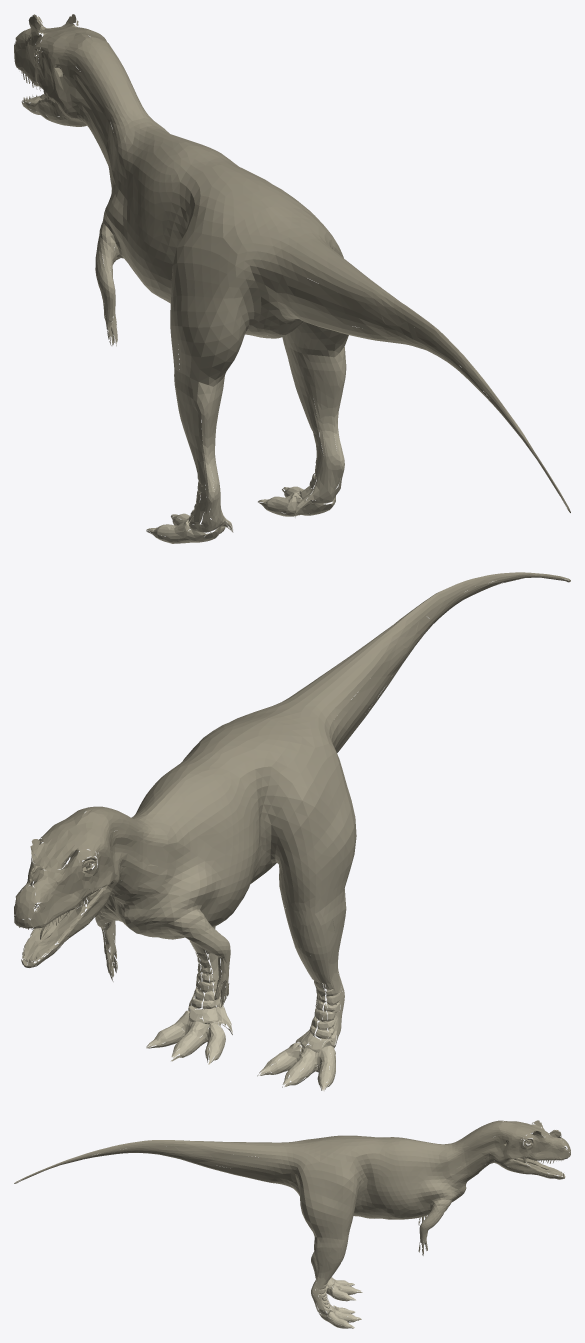
Rendered from ceratosaurus.glb.
3 views of the same model, one above another, from view 1: azimuth 30°, elevation 25°; view 2: azimuth 150°, elevation 25°; view 3: azimuth 270°, elevation 25° (orthographic). The views are drawn at different scales.
Parts seen in each view (by area): view 1: world; view 2: world; view 3: world.
Boxes of the visible parts, box(x1,y1,x2,y2) form: world: box(14, 14, 570, 543); world: box(14, 572, 570, 1090); world: box(14, 1120, 570, 1328).
Size of the model in its own units: 2.53 by 4.99 by 13.5.
